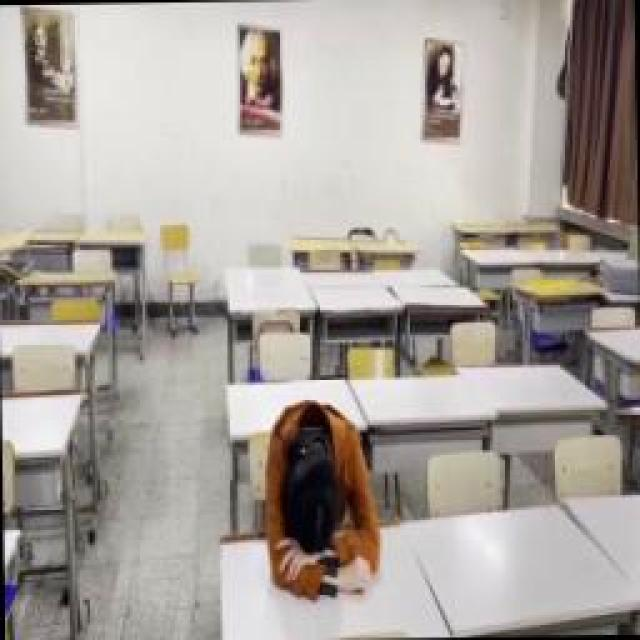sleep: (260, 400, 378, 602)
